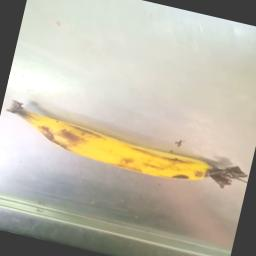Banana Unripe: (0, 79, 252, 211)
